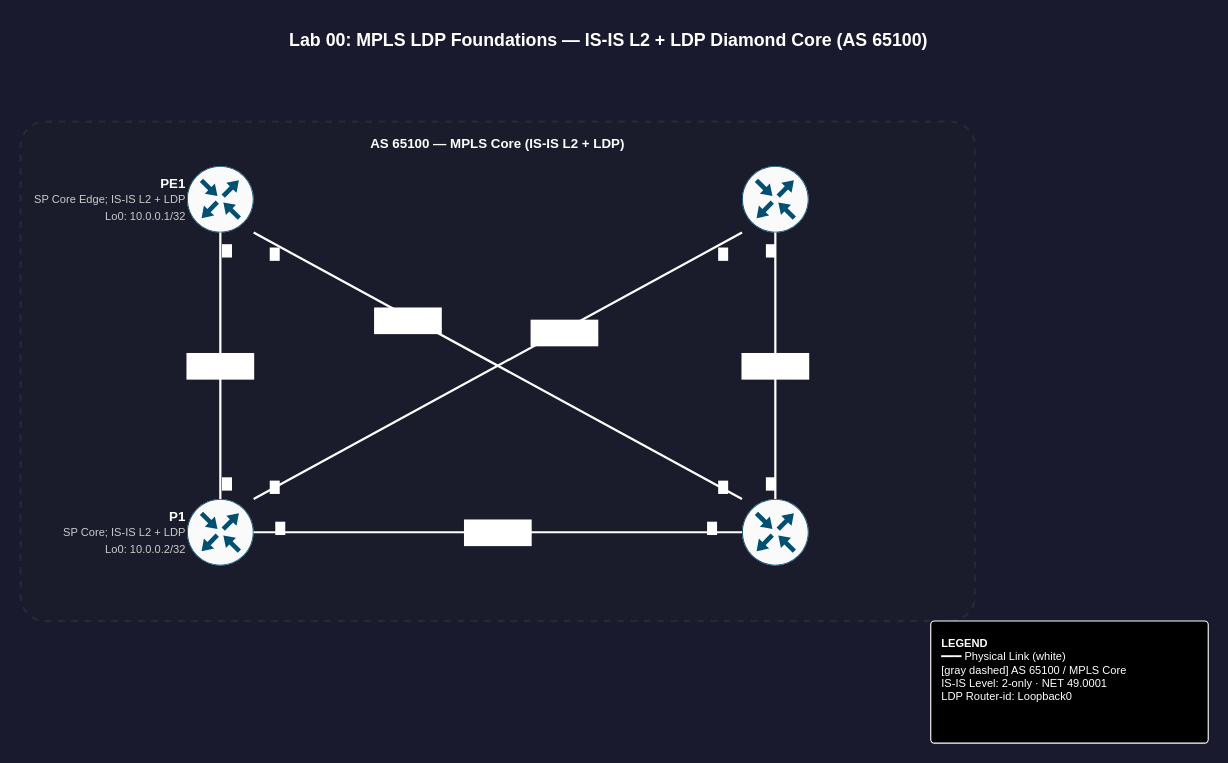
This 1228x763 diagram has some shape labels left out. Each missing label, with the centre of its shape:
P2 SP Core; IS-IS L2 + LDP Lo0: 10.0.0.3/32: point 775,532
PE2 SP Core Edge; IS-IS L2 + LDP Lo0: 10.0.0.4/32: point 775,199
